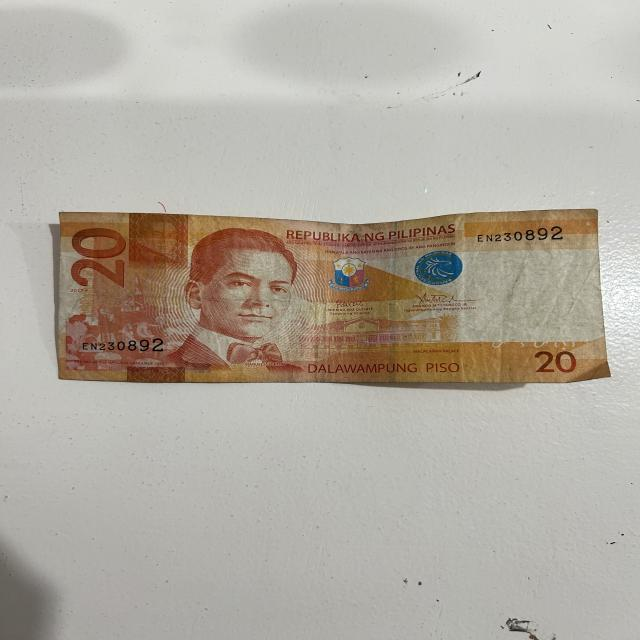concealed_value: (128, 214, 187, 266)
security_thread: (380, 221, 408, 381)
see_through_mark: (484, 330, 588, 351)
serial_number: (473, 222, 568, 248), (77, 335, 172, 355)
value: (75, 222, 129, 290)
watermark: (474, 254, 587, 333)
